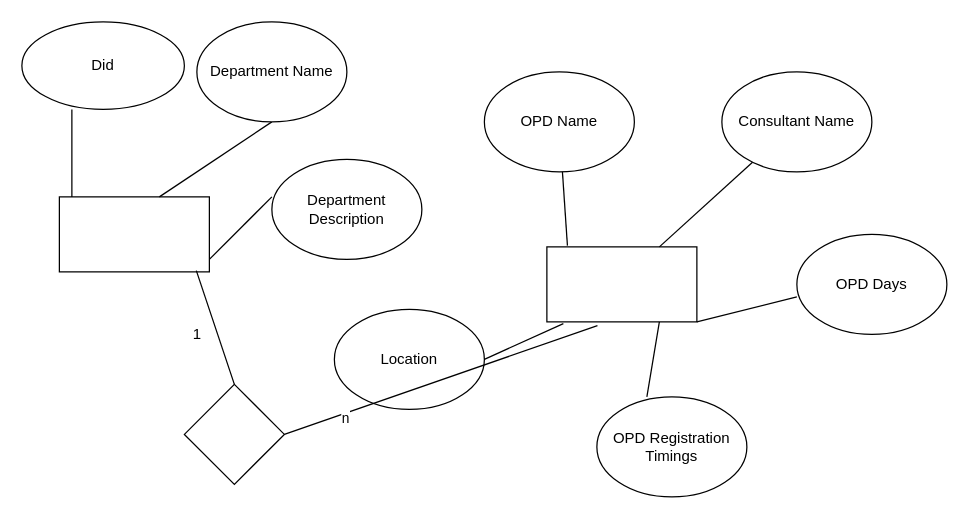
This 969x519 diagram has some shape labels left out. Each missing label, with the box of its shape:
Department: (58, 196, 209, 272)
Schedule: (546, 246, 697, 322)
